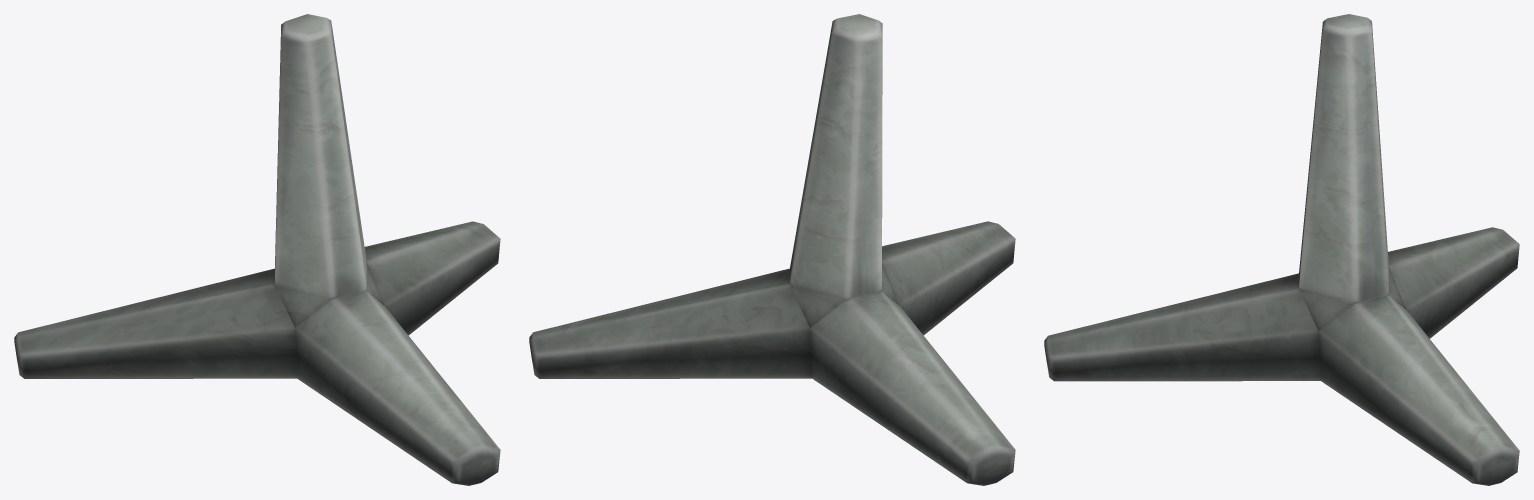
File: BarrierTank02.FBX
3 renders of one model, left to right at view 1: azimuth 30°, elevation 25°; view 2: azimuth 150°, elevation 25°; view 3: azimuth 270°, elevation 25°, orthographic. The views are drawn at different scales.
Parts seen in each view (by area): view 1: BarrierTank02; view 2: BarrierTank02; view 3: BarrierTank02.
Boxes of the visible parts, <box> form: BarrierTank02: <box>14,14,500,485</box>; BarrierTank02: <box>529,14,1015,485</box>; BarrierTank02: <box>1044,14,1519,485</box>.
Size of what is drawn, in the model's own units: 2.25 by 1.59 by 1.97.
